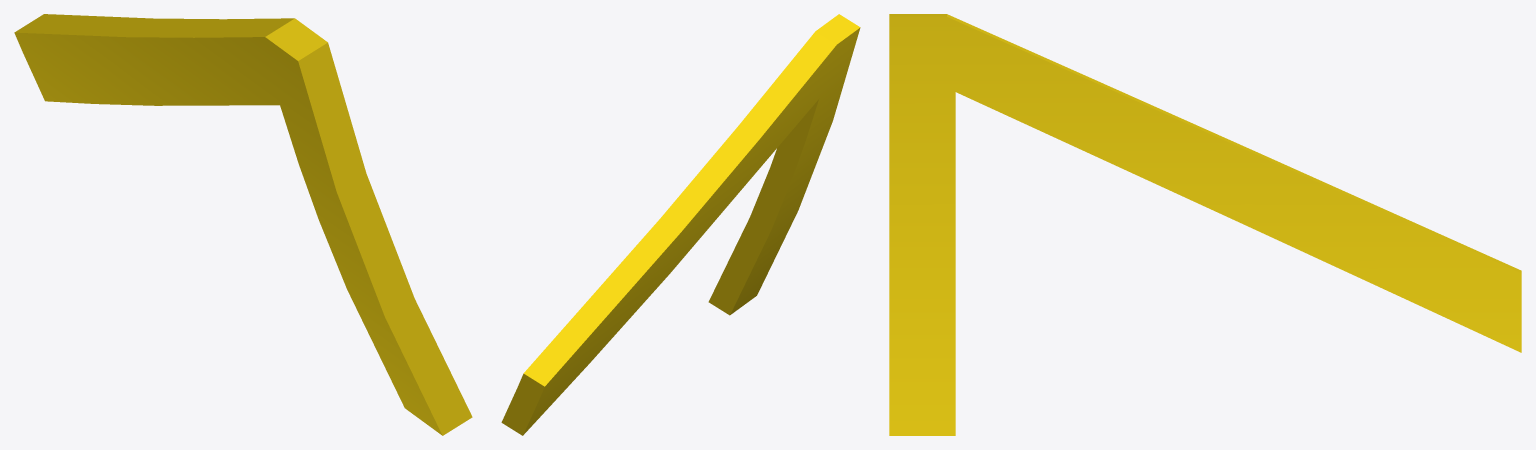
The model's file is Number_7.gltf.
3 views of the same model, side by side, from view 1: azimuth 30°, elevation 25°; view 2: azimuth 150°, elevation 25°; view 3: azimuth 270°, elevation 25° (orthographic). The views are drawn at different scales.
Visible parts, largest first — view 1: Sub_5_Cell_1_3_Number_7; view 2: Sub_5_Cell_1_3_Number_7; view 3: Sub_5_Cell_1_3_Number_7.
Part boxes in pixels (left/top/right/bottom): Sub_5_Cell_1_3_Number_7: left=14, top=14, right=472, bottom=435; Sub_5_Cell_1_3_Number_7: left=501, top=14, right=860, bottom=435; Sub_5_Cell_1_3_Number_7: left=889, top=14, right=1521, bottom=435.
Size of the model in its own units: 0.007 by 0.0162 by 0.0252.
